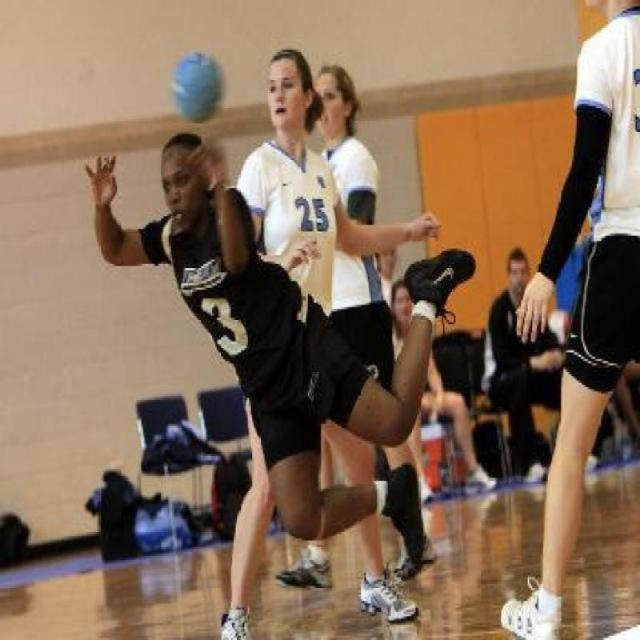volleyball: (169, 50, 223, 126)
